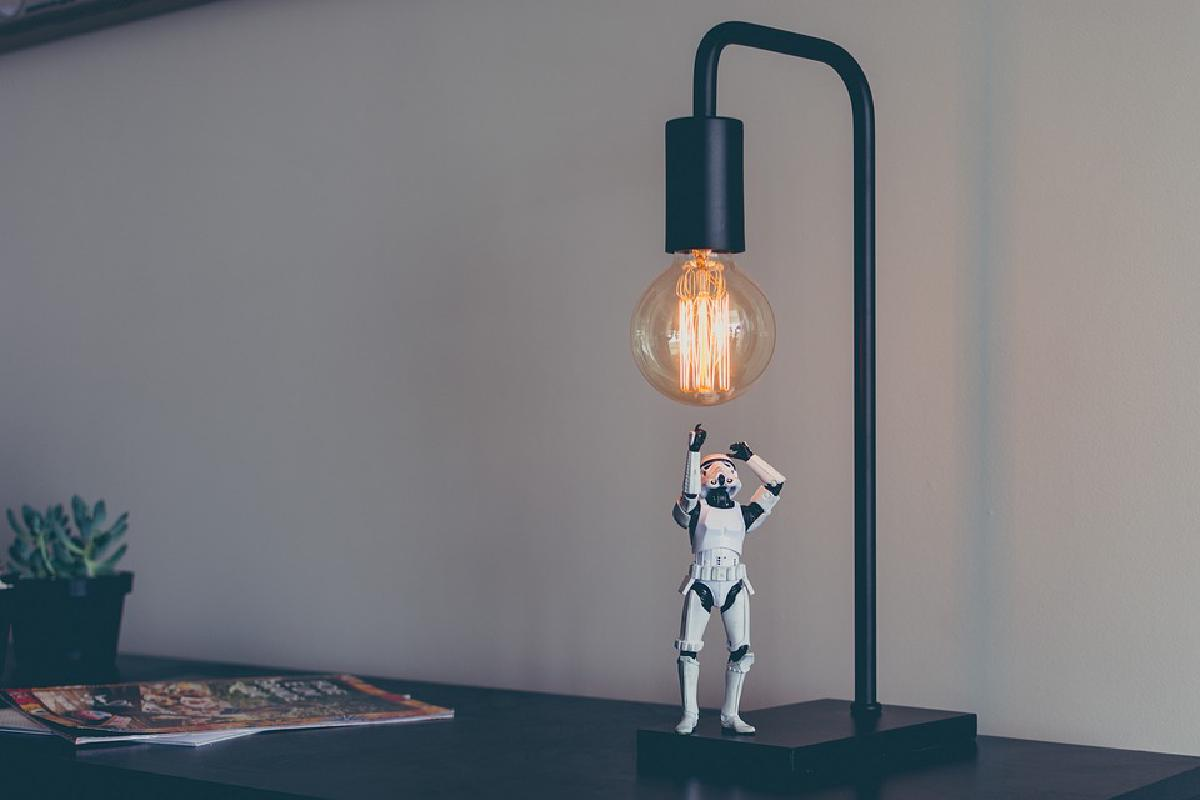Light_bulb: (624, 252, 785, 411)
